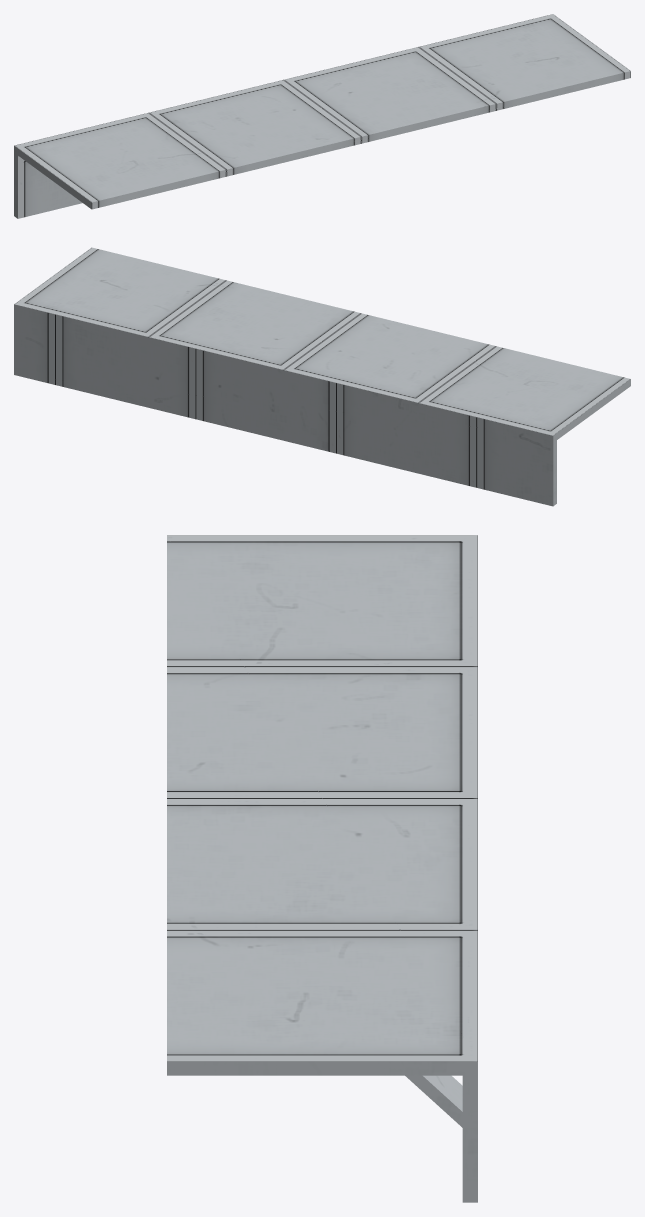
Rendered from Platform_01_Ledge.FBX.
The picture shows the model from 3 angles, top to bottom: view 1: azimuth 30°, elevation 25°; view 2: azimuth 150°, elevation 25°; view 3: azimuth 270°, elevation 25°; orthographic projection. The views are drawn at different scales.
Parts seen in each view (by area): view 1: Platform_01_Ledge; view 2: Platform_01_Ledge; view 3: Platform_01_Ledge.
Part boxes in pixels (x1,y1,x2,y2): Platform_01_Ledge: (14,14,630,218); Platform_01_Ledge: (14,247,630,506); Platform_01_Ledge: (167,535,477,1202).
Size of the model in its own units: 4 by 0.5 by 1.
1 material, 1 textured.
